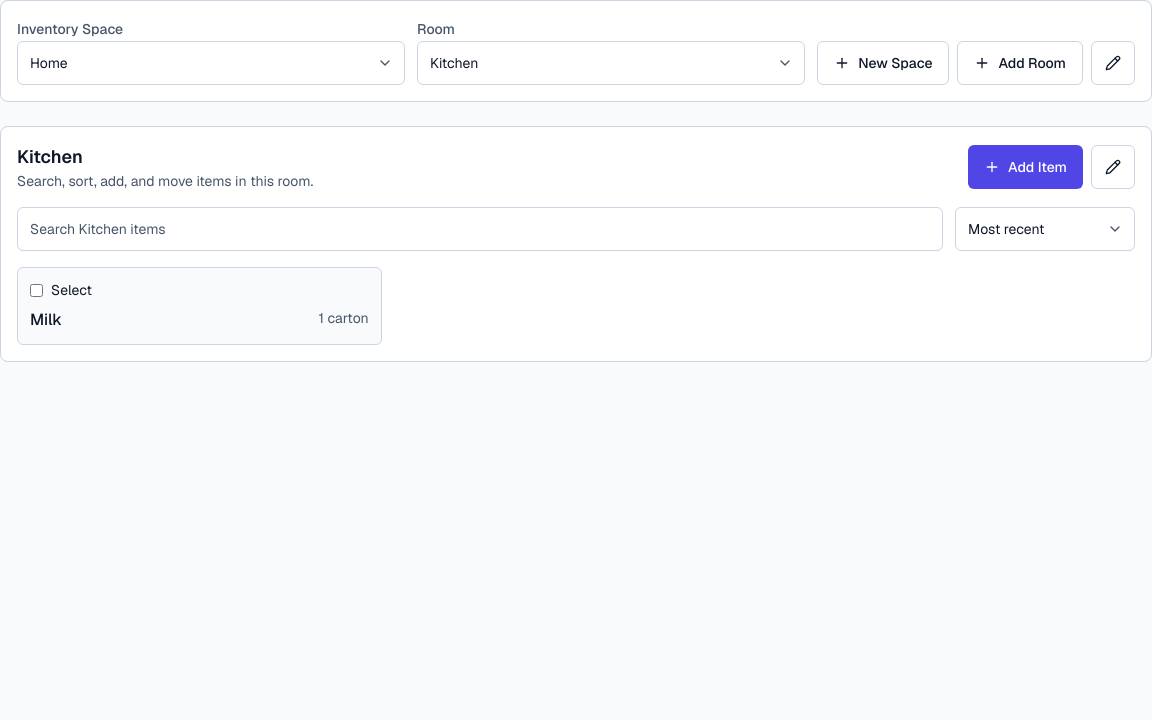
Scenario: RoomDashboardSurface › shows warning flow for deleting non-empty selected space
The image size is (1152, 720).
What coordinates should you click on to do the following:
click the button named "Edit selected space"
I would click on:
 (1113, 63)
Its box is [1091,41,1135,85].
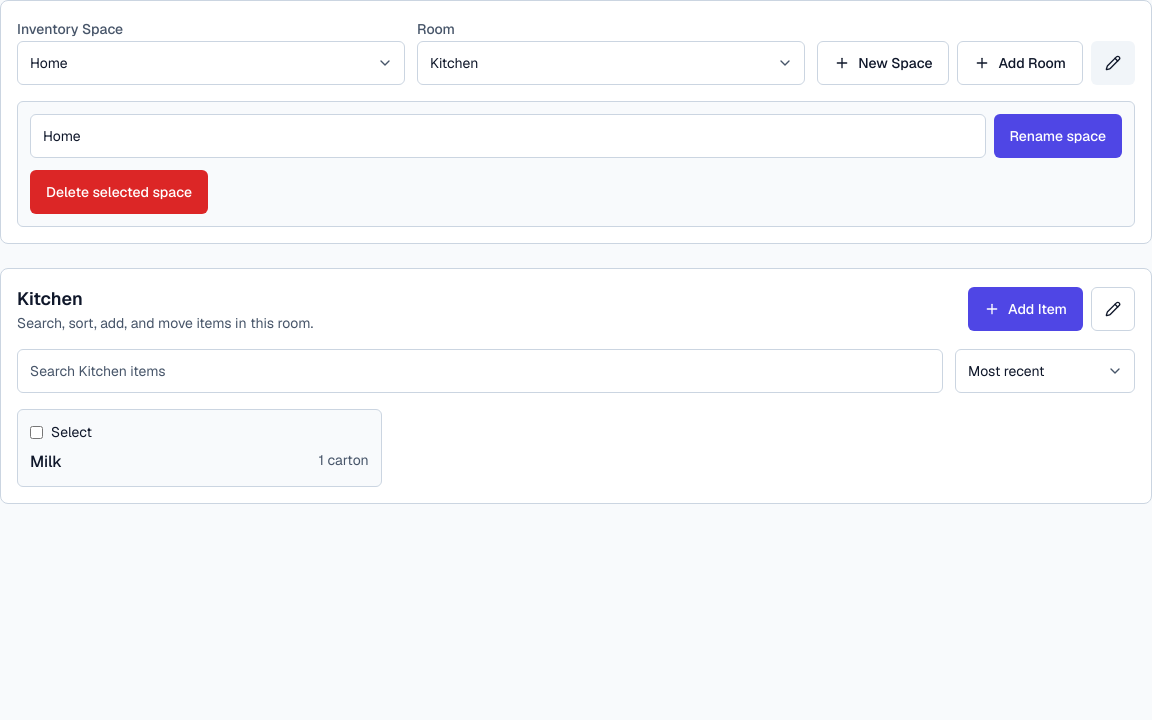
What coordinates should you click on to do the following:
click the button "Delete selected space"
I would click on:
 (119, 192)
Its box is [30,170,208,214].
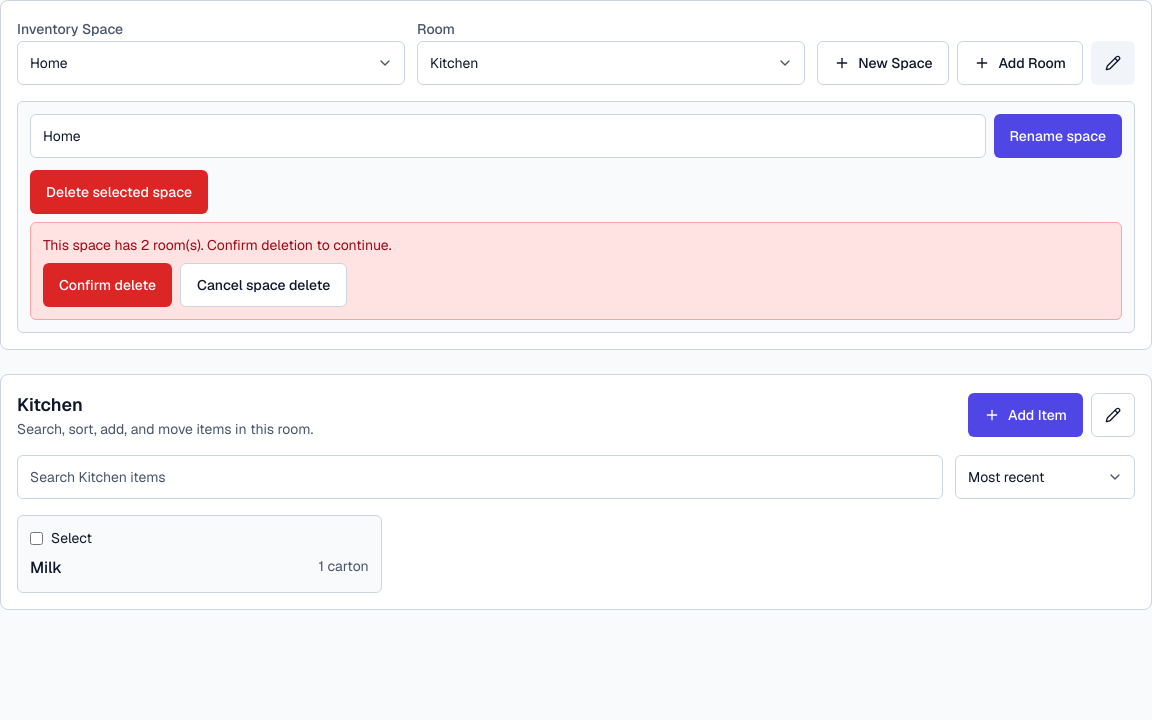
Now the text "This space has 2 room(s). Confirm deletion to continue." is shown, box [30,222,1122,320]
